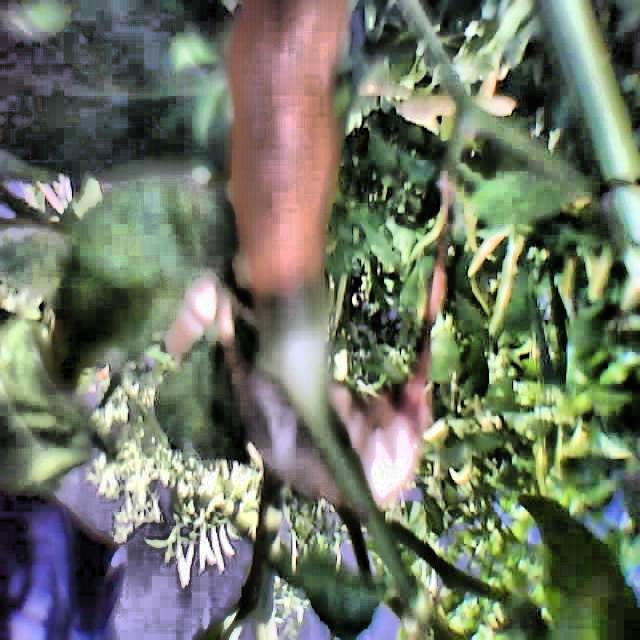Cabai: (235, 2, 360, 417)
